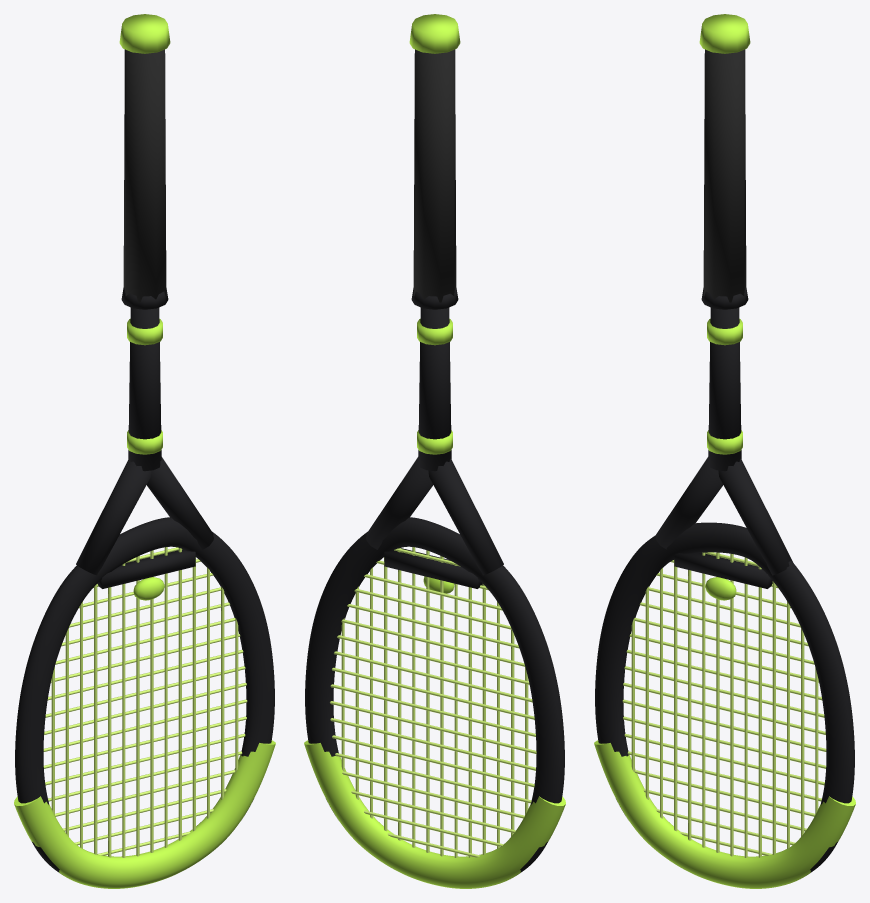
Rendered from racket.glb.
3 renders of one model, left to right at view 1: azimuth 30°, elevation 25°; view 2: azimuth 150°, elevation 25°; view 3: azimuth 330°, elevation 25°, orthographic.
Parts seen in each view (by area): view 1: Racket; view 2: Racket; view 3: Racket.
Part boxes in pixels (bbox=[...]): Racket: bbox=[14, 14, 275, 888]; Racket: bbox=[304, 14, 565, 888]; Racket: bbox=[594, 14, 855, 888].
Size of the model in its own units: 0.2229 by 0.7068 by 0.038.
